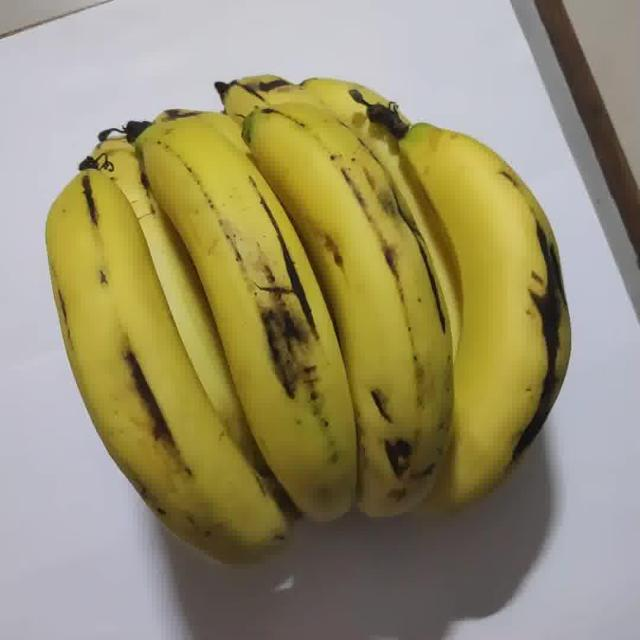Banana: (46, 76, 569, 556)
